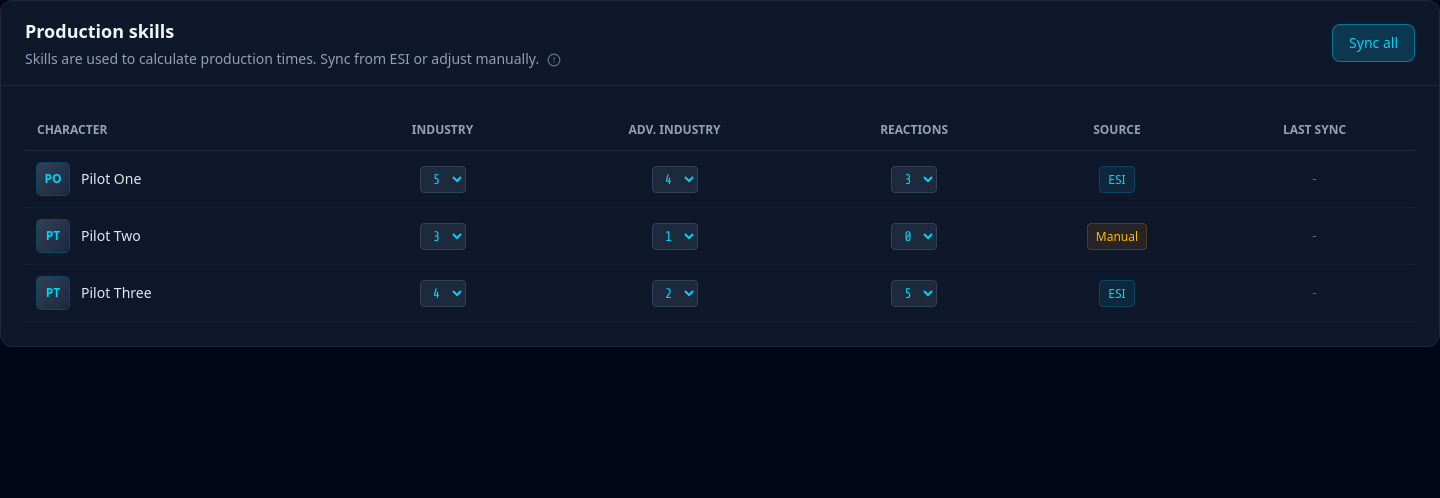
Test case: SkillsConfig skill sync failures › names every failed character with the plural title
Click the button "Sync all".
click(1374, 43)  # box [1332,24,1415,62]
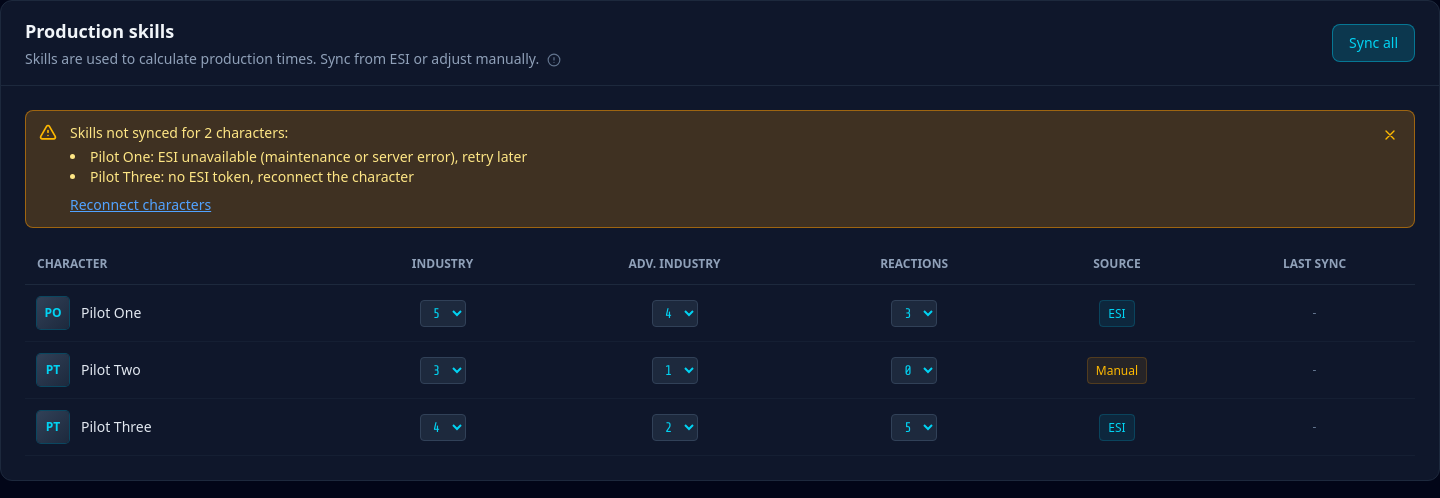
Check: the number of elements with test id "skills-sync-failures" is 1, box [25,110,1415,228]
Check: the element with test id "skills-sync-failures" shows "Skills not synced for 2 characters:", box [70,123,288,142]
